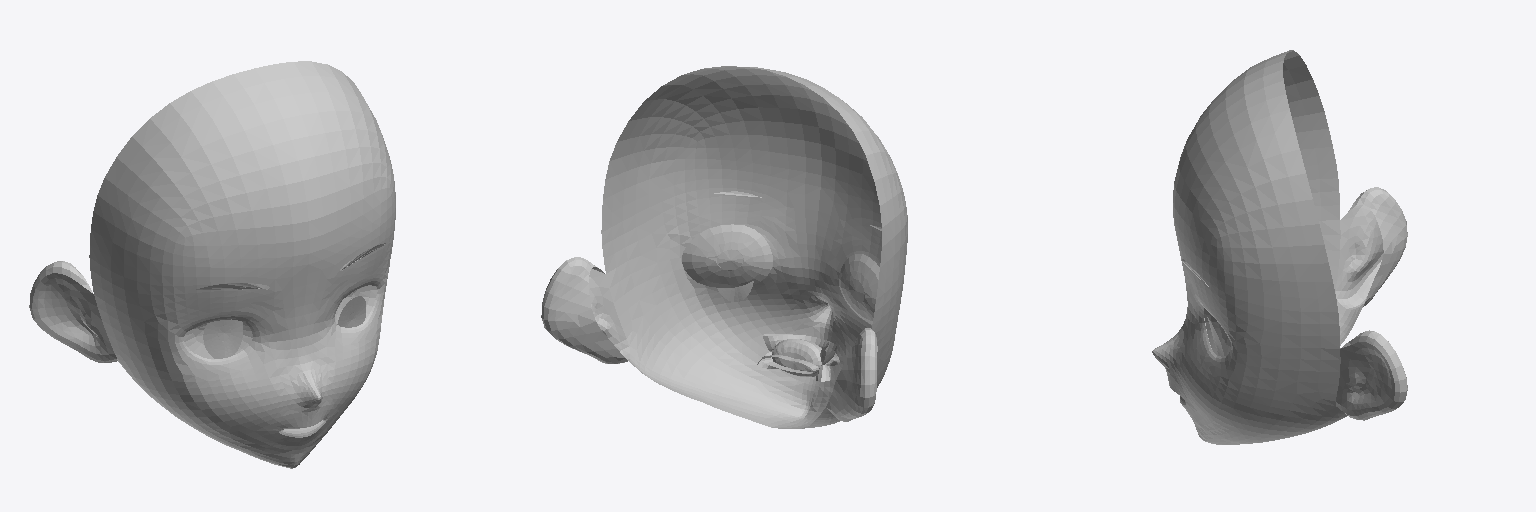
File: eyeLookDownLeft.obj
3 views of the same model, side by side, from view 1: azimuth 30°, elevation 25°; view 2: azimuth 150°, elevation 25°; view 3: azimuth 270°, elevation 25° (orthographic).
Parts seen in each view (by area): view 1: Face; view 2: Face; view 3: Face.
Boxes of the visible parts, x1,y1,x2,y2 form: Face: [29, 61, 395, 468]; Face: [541, 66, 907, 428]; Face: [1152, 50, 1407, 444].
Bounding box in the file's own units: 0.2176 × 0.2333 × 0.1449.